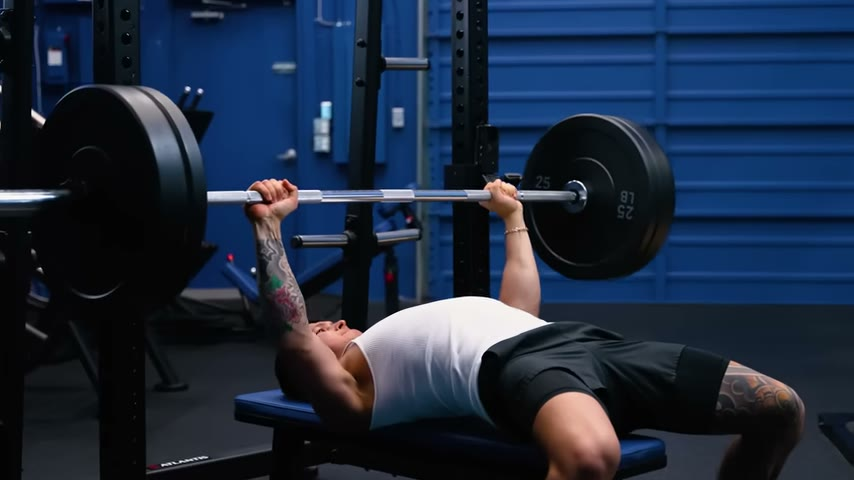barbell_plate_side: (550, 79, 676, 287)
